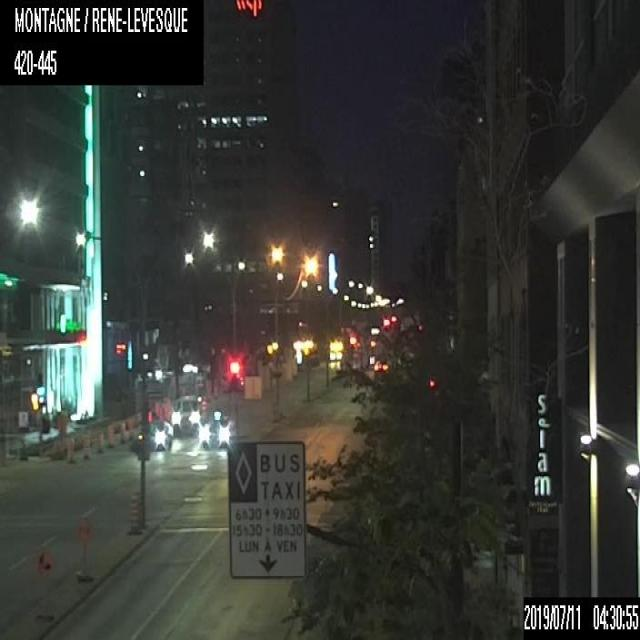construction: (74, 513, 92, 581), (35, 551, 53, 619), (129, 489, 139, 534), (64, 438, 72, 462), (83, 433, 90, 459), (108, 425, 116, 447), (94, 428, 101, 453), (118, 421, 124, 441), (148, 410, 152, 423)
vehicle: (170, 394, 201, 432), (200, 412, 231, 449), (148, 420, 173, 451)
